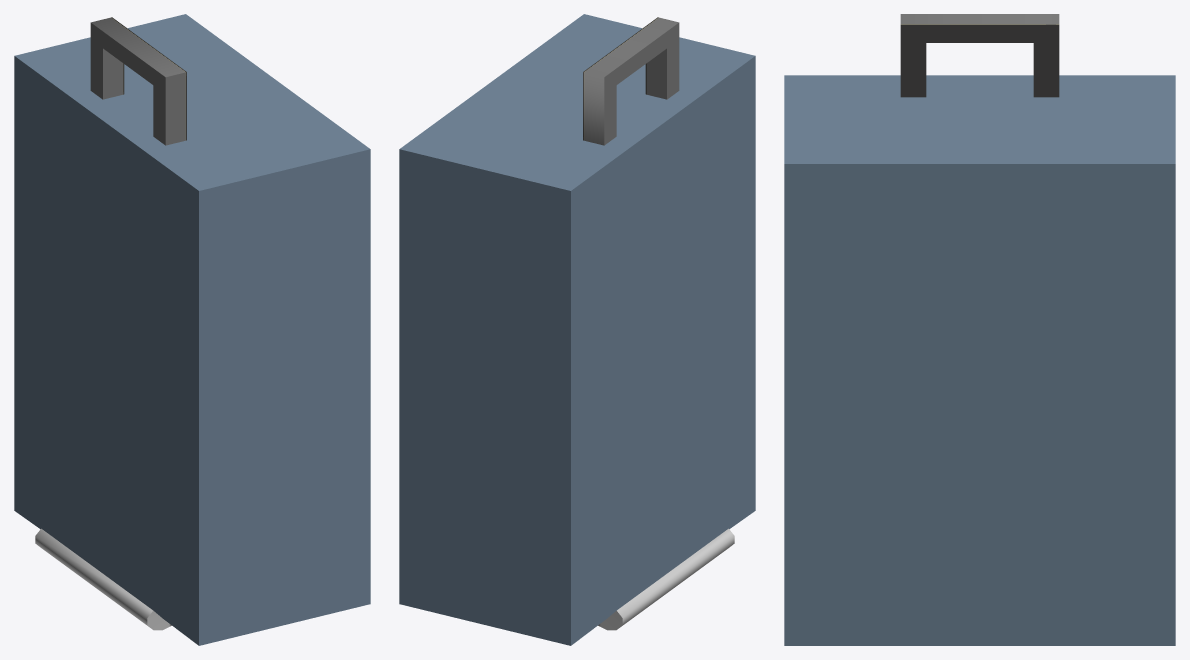
The model's file is lounge2.fbx.
The picture shows the model from 3 angles, left to right: view 1: azimuth 30°, elevation 25°; view 2: azimuth 150°, elevation 25°; view 3: azimuth 270°, elevation 25°; orthographic projection. The views are drawn at different scales.
Parts seen in each view (by area): view 1: lounge1; view 2: lounge1; view 3: lounge1.
Part boxes in pixels (bbox=[...]): lounge1: bbox=[14, 14, 370, 645]; lounge1: bbox=[399, 14, 755, 645]; lounge1: bbox=[784, 14, 1175, 645].
Size of the model in its own units: 22.15 by 60.49 by 37.92.
